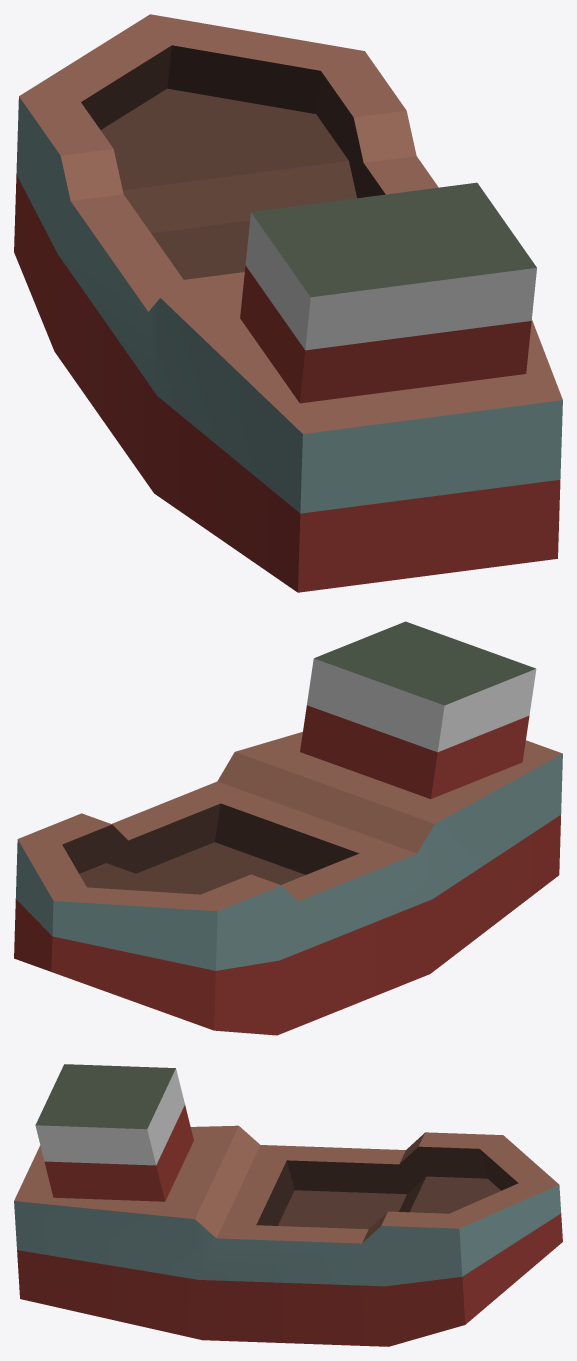
Rendered from ship.fbx.
3 renders of one model, top to bottom at view 1: azimuth 30°, elevation 25°; view 2: azimuth 150°, elevation 25°; view 3: azimuth 270°, elevation 25°, orthographic. The views are drawn at different scales.
Visible parts, largest first — view 1: Ship.001; view 2: Ship.001; view 3: Ship.001.
Part boxes in pixels (box(x1,y1,x2,y2)): Ship.001: box(14, 14, 562, 592); Ship.001: box(14, 621, 562, 1035); Ship.001: box(14, 1064, 562, 1346).
Size of the model in its own units: 203 by 153 by 395.
